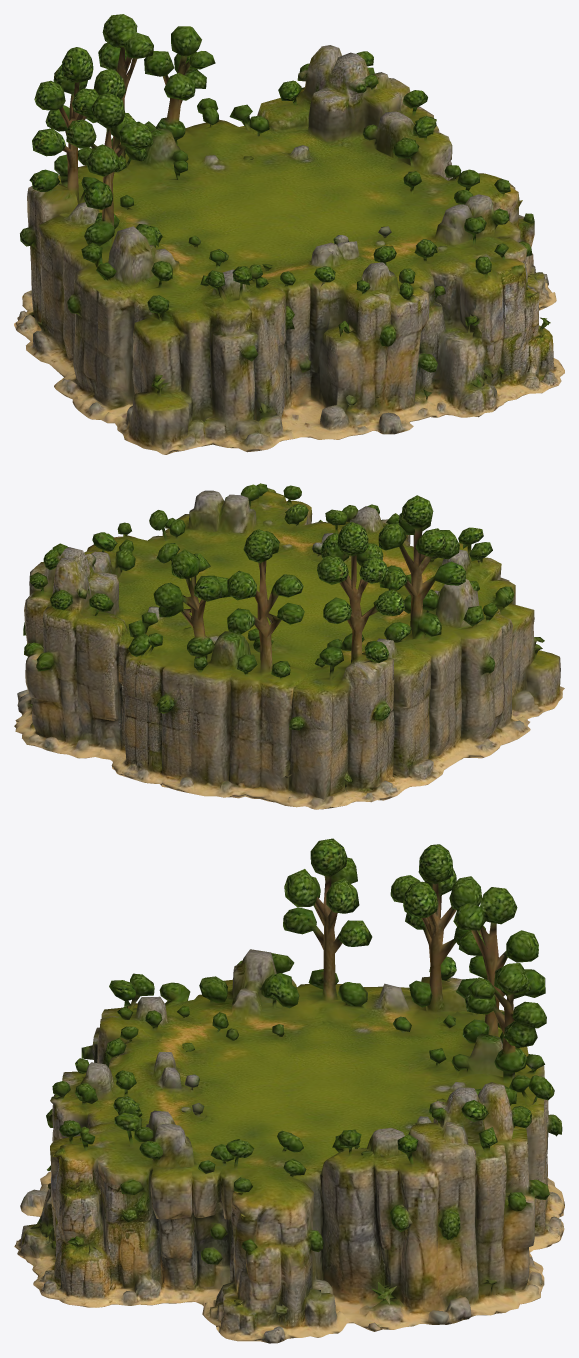
The model's file is island.glb.
The picture shows the model from 3 angles, top to bottom: view 1: azimuth 30°, elevation 25°; view 2: azimuth 150°, elevation 25°; view 3: azimuth 270°, elevation 25°; orthographic projection. The views are drawn at different scales.
Visible parts, largest first — view 1: tripo_node_9e1796ac-cf32-4231-8dca-0fa196359bae; view 2: tripo_node_9e1796ac-cf32-4231-8dca-0fa196359bae; view 3: tripo_node_9e1796ac-cf32-4231-8dca-0fa196359bae.
Part boxes in pixels (<box>): tripo_node_9e1796ac-cf32-4231-8dca-0fa196359bae: <box>14,14,564,454</box>; tripo_node_9e1796ac-cf32-4231-8dca-0fa196359bae: <box>14,483,564,809</box>; tripo_node_9e1796ac-cf32-4231-8dca-0fa196359bae: <box>14,838,564,1343</box>.
Bounding box in the file's own units: 0.9795 × 0.5336 × 0.901.
1 material, 1 textured.
